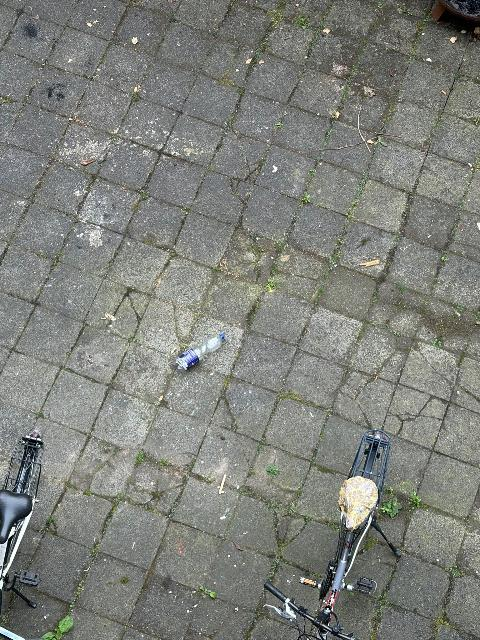plastic_bottle: (175, 333, 227, 373)
